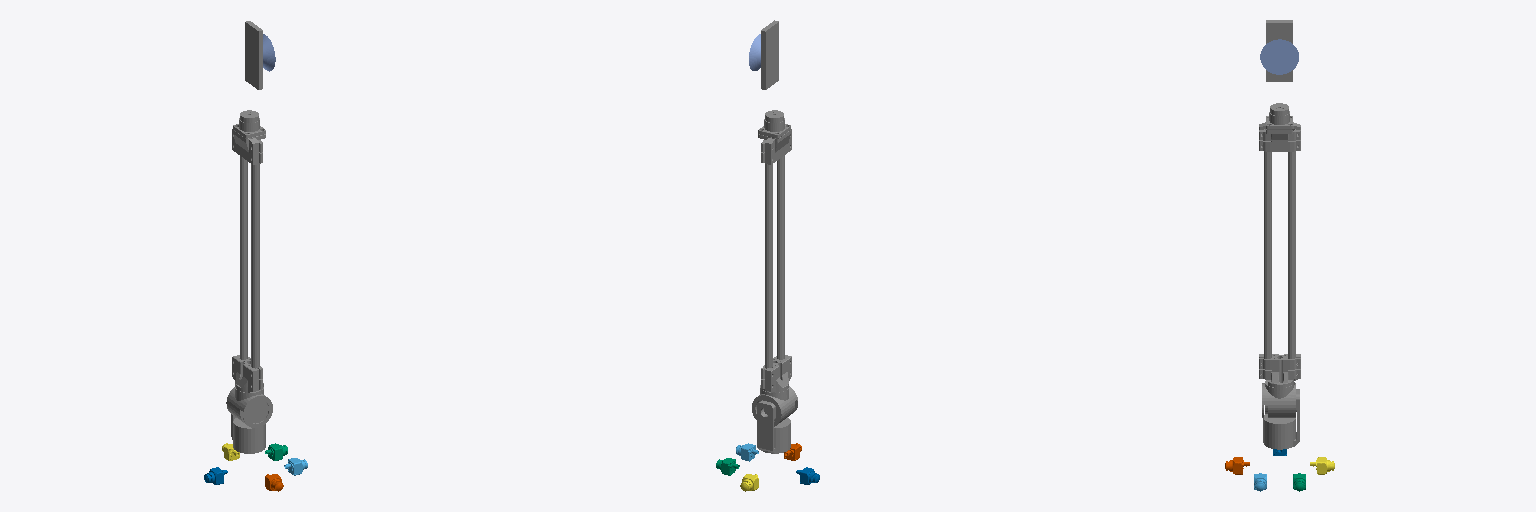
The robot description file, URDF, robot "recomoDemo1_posonly":
<?xml version="1.0" encoding="utf-8"?>
<robot name="recomoDemo1_posonly">
  <!-- Base frames (planar virtual base) -->
  <link name="world"/>
  <link name="base_slide_x"/>
  <link name="base_slide_y"/>
  <link name="base_rot"/>

  <joint name="base_joint_vx" type="prismatic">
    <origin xyz="0 0 0" rpy="0 0 0"/>
    <parent link="world"/>
    <child link="base_slide_x"/>
    <axis xyz="1 0 0"/>
    <limit lower="-50" upper="50" effort="200" velocity="2"/>
  </joint>

  <joint name="base_joint_vy" type="prismatic">
    <origin xyz="0 0 0" rpy="0 0 0"/>
    <parent link="base_slide_x"/>
    <child link="base_slide_y"/>
    <axis xyz="0 1 0"/>
    <limit lower="-50" upper="50" effort="200" velocity="2"/>
  </joint>

  <joint name="base_joint_wz" type="continuous">
    <origin xyz="0 0 0" rpy="0 0 0"/>
    <parent link="base_slide_y"/>
    <child link="base_rot"/>
    <axis xyz="0 0 1"/>
    <limit lower="-3.1416" upper="3.1416" effort="0" velocity="2"/>
  </joint>

  <!-- Base link -->
  <link name="base_link">
    <inertial>
      <origin xyz="0.0015222 -0.0014495 0.20619" rpy="0 0 0"/>
      <mass value="2.4904"/>
      <inertia ixx="0.012695" ixy="3.4505E-06" ixz="-1.4453E-05" iyy="0.012158" iyz="-3.5641E-07" izz="0.017417"/>
    </inertial>
    <visual>
      <origin xyz="0 0 0" rpy="0 0 0"/>
      <geometry>
        <mesh filename="package://recomoDemo1/meshes/base_link.STL"/>
      </geometry>
      <material name=""><color rgba="1 1 1 1"/></material>
    </visual>
    <collision>
      <origin xyz="0 0 0" rpy="0 0 0"/>
      <geometry>
        <mesh filename="package://recomoDemo1/meshes/base_link.STL"/>
      </geometry>
    </collision>
  </link>

  <joint name="base_link_fixed" type="fixed">
    <origin xyz="0 0 0" rpy="0 0 0"/>
    <parent link="base_rot"/>
    <child link="base_link"/>
  </joint>

  <!-- Arm -->
  <link name="seg1_arm">
    <inertial>
      <origin xyz="-4.3267E-09 -0.0024859 0.056732" rpy="0 0 0"/>
      <mass value="0.2629"/>
      <inertia ixx="0.00034224" ixy="3.722E-11" ixz="-2.8688E-11" iyy="0.00031439" iyz="3.1305E-06" izz="0.00012571"/>
    </inertial>
    <visual>
      <origin xyz="0 0 0" rpy="0 0 0"/>
      <geometry>
        <mesh filename="package://recomoDemo1/meshes/seg1_arm.STL"/>
      </geometry>
      <material name=""><color rgba="0.6 0.6 0.6 1"/></material>
    </visual>
    <collision>
      <origin xyz="0 0 0" rpy="0 0 0"/>
      <geometry>
        <mesh filename="package://recomoDemo1/meshes/seg1_arm.STL"/>
      </geometry>
    </collision>
  </link>

  <joint name="joint6_arm_yaw" type="revolute">
    <origin xyz="-0.0069938 -0.00039515 0.69504" rpy="0 0 3.141592653589793"/>
    <parent link="base_link"/>
    <child link="seg1_arm"/>
    <axis xyz="0 0 -1"/>
    <limit lower="-2.6" upper="2.6" effort="2" velocity="0.5"/>
  </joint>

  <link name="seg2_arm">
    <inertial>
      <origin xyz="0.00132163053670434 -0.000383977197197752 0.245827178923758" rpy="0 0 0"/>
      <mass value="0.334193580647335"/>
      <inertia ixx="0.00186215112710019" ixy="-1.34509157282982E-07" ixz="4.41525091481291E-08" iyy="0.00182727496223977" iyz="-4.3142493087181E-06" izz="0.000143809845588911"/>
    </inertial>
    <visual>
      <origin xyz="0 0 0" rpy="0 0 0"/>
      <geometry>
        <mesh filename="package://recomoDemo1/meshes/seg2_arm.STL"/>
      </geometry>
      <material name=""><color rgba="0.6 0.6 0.6 1"/></material>
    </visual>
    <collision>
      <origin xyz="0 0 0" rpy="0 0 0"/>
      <geometry>
        <mesh filename="package://recomoDemo1/meshes/seg2_arm.STL"/>
      </geometry>
    </collision>
  </link>

  <joint name="joint5_arm_pitch" type="revolute">
    <origin xyz="0 0 0.091499" rpy="0 0 0"/>
    <parent link="seg1_arm"/>
    <child link="seg2_arm"/>
    <axis xyz="0 -1 0"/>
    <limit lower="-0.785" upper="1.57" effort="1" velocity="0.5"/>
  </joint>

  <link name="seg2_arm_elbow">
    <inertial>
      <origin xyz="0 0 0" rpy="0 0 0"/>
      <mass value="0.001"/>
      <inertia ixx="1.0E-06" ixy="0" ixz="0" iyy="1.0E-06" iyz="0" izz="1.0E-06"/>
    </inertial>
  </link>

  <joint name="joint4_elbow_pitch" type="revolute">
    <origin xyz="0 0 0" rpy="0 0 0"/>
    <parent link="seg2_arm"/>
    <child link="seg2_arm_elbow"/>
    <axis xyz="0 0 1"/>
    <limit lower="0" upper="0" effort="0" velocity="0"/>
  </joint>

  <!-- Virtual end-effector fixed at gimbal-axis intersection -->
  <link name="ee_tool">
    <inertial>
      <origin xyz="0 0 0" rpy="0 0 0"/>
      <mass value="0.001"/>
      <inertia ixx="2.3333E-07" ixy="0" ixz="0" iyy="2.3333E-07" iyz="0" izz="5.0E-08"/>
    </inertial>
    <visual>
      <origin xyz="-0.005 0 0" rpy="3.1416 -1.5708 0"/>
      <geometry>
        <box size="0.12 0.05 0.01"/>
      </geometry>
      <material name="ee_tool_mat"><color rgba="0.6 0.6 0.6 1"/></material>
    </visual>
    <visual>
      <origin xyz="-0.03 0 0" rpy="3.1416 -1.5708 0"/>
      <geometry>
        <mesh filename="package://recomoDemo1/meshes/ee_tool_cone.STL"/>
      </geometry>
      <material name="ee_tool_cone_mat"><color rgba="0.6 0.7 0.9 1"/></material>
    </visual>
    <collision>
      <origin xyz="-0.005 0 0" rpy="3.1416 -1.5708 0"/>
      <geometry>
        <box size="0.12 0.05 0.01"/>
      </geometry>
    </collision>
    <collision>
      <origin xyz="-0.03 0 0" rpy="3.1416 -1.5708 0"/>
      <geometry>
        <mesh filename="package://recomoDemo1/meshes/ee_tool_cone.STL"/>
      </geometry>
    </collision>
  </link>

  <joint name="ee_tool_fixed" type="fixed">
    <!-- Position of the gimbal intersection relative to seg2_arm at zero gimbal angles -->
    <origin xyz="-0.005 4.7769E-05 0.710969559" rpy="0 0 0"/>
    <parent link="seg2_arm_elbow"/>
    <child link="ee_tool"/>
  </joint>

  <!-- Base-mounted camera brackets (fixed) -->
  <link name="link_cam_FR">
    <visual><geometry><mesh filename="package://recomoDemo1/meshes/link_cam_FR.STL"/></geometry></visual>
  </link>
  <joint name="joint_cam_FR" type="fixed">
    <origin xyz="0.094291 -0.035992 0.65854" rpy="1.5708 0 1.5708"/>
    <parent link="base_link"/><child link="link_cam_FR"/>
  </joint>

  <link name="link_cam_FL">
    <visual><geometry><mesh filename="package://recomoDemo1/meshes/link_cam_FL.STL"/></geometry></visual>
  </link>
  <joint name="joint_cam_FL" type="fixed">
    <origin xyz="0.094291 0.036008 0.65854" rpy="1.5708 0 1.5708"/>
    <parent link="base_link"/><child link="link_cam_FL"/>
  </joint>

  <link name="link_cam_L">
    <visual><geometry><mesh filename="package://recomoDemo1/meshes/link_cam_L.STL"/></geometry></visual>
  </link>
  <joint name="joint_cam_L" type="fixed">
    <origin xyz="0 0.10097 0.65854" rpy="1.5708 0 3.1416"/>
    <parent link="base_link"/><child link="link_cam_L"/>
  </joint>

  <link name="link_cam_BK">
    <visual><geometry><mesh filename="package://recomoDemo1/meshes/link_cam_BK.STL"/></geometry></visual>
  </link>
  <joint name="joint_cam_BK" type="fixed">
    <origin xyz="-0.10097 0 0.65854" rpy="1.5708 0 -1.5708"/>
    <parent link="base_link"/><child link="link_cam_BK"/>
  </joint>

  <link name="link_cam_R">
    <visual><geometry><mesh filename="package://recomoDemo1/meshes/link_cam_R.STL"/></geometry></visual>
  </link>
  <joint name="joint_cam_R" type="fixed">
    <origin xyz="0 -0.10097 0.65854" rpy="1.5708 0 0"/>
    <parent link="base_link"/><child link="link_cam_R"/>
  </joint>
</robot>

--- Render facts (derived) ---
The picture shows the robot from 3 angles, left to right: view 1: azimuth 30°, elevation 25°; view 2: azimuth 150°, elevation 25°; view 3: azimuth 270°, elevation 25°; orthographic projection.
Model recomoDemo1_posonly with 14 links and 13 joints (3 revolute, 1 continuous, 2 prismatic, 7 fixed), rooted at world, posed all joints at 0.
Visible links, largest first — view 1: seg2_arm, ee_tool, seg1_arm; view 2: seg2_arm, ee_tool, seg1_arm; view 3: seg2_arm, ee_tool, seg1_arm.
Link boxes in pixels (box(x1,y1,x2,y2)): seg2_arm: box(226, 110, 272, 427); ee_tool: box(245, 21, 275, 89); seg1_arm: box(231, 400, 267, 453); seg2_arm: box(752, 110, 797, 426); ee_tool: box(749, 20, 778, 89); seg1_arm: box(757, 399, 790, 453); seg2_arm: box(1259, 103, 1300, 417); ee_tool: box(1260, 20, 1298, 81); seg1_arm: box(1263, 389, 1299, 449).
Size in the robot's own frame: 0.1953 by 0.2019 by 0.9115 metres.
Meshes: 9 distinct files referenced, 8 mesh visuals loaded (7 binary STL, 1 ASCII STL); not drawn: 1 (reference not matched to a file when rendering).
